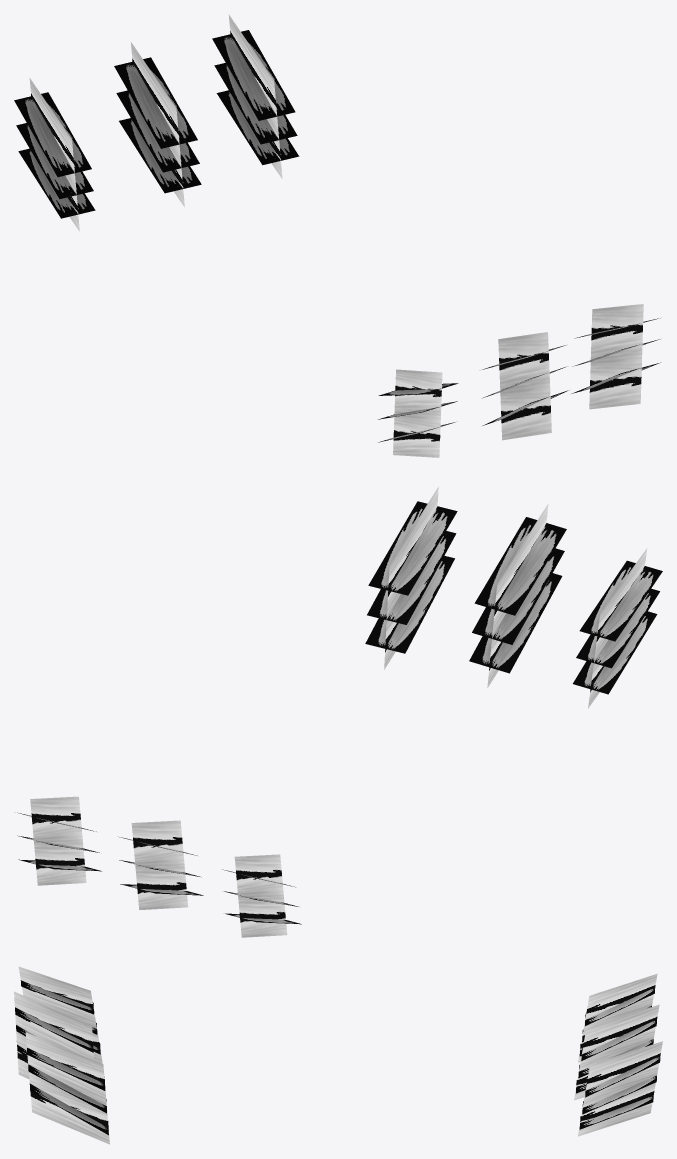
File: windowlights.dae
3 renders of one model, top to bottom at view 1: azimuth 30°, elevation 25°; view 2: azimuth 150°, elevation 25°; view 3: azimuth 270°, elevation 25°, orthographic. The views are drawn at different scales.
Visible parts, largest first — view 1: light_Group44, light_Group44_002, light_Group44_001, light_Group44_005, light_Group44_004, light_Group44_003; view 2: light_Group44_004, light_Group44_005, light_Group44_003, light_Group44, light_Group44_002, light_Group44_001; view 3: light_Group44_005, light_Group44_002, light_Group44_004, light_Group44, light_Group44_003, light_Group44_001.
Part boxes in pixels (<box>): light_Group44: <box>114,42,201,207</box>; light_Group44_002: <box>212,14,299,178</box>; light_Group44_001: <box>14,78,95,231</box>; light_Group44_005: <box>571,304,660,409</box>; light_Group44_004: <box>482,332,568,440</box>; light_Group44_003: <box>378,369,458,457</box>; light_Group44_004: <box>469,504,566,687</box>; light_Group44_005: <box>365,486,457,669</box>; light_Group44_003: <box>573,548,662,708</box>; light_Group44: <box>119,820,203,909</box>; light_Group44_002: <box>17,796,101,885</box>; light_Group44_001: <box>223,854,301,937</box>; light_Group44_005: <box>25,1032,109,1144</box>; light_Group44_002: <box>577,1041,662,1136</box>; light_Group44_004: <box>14,991,93,1078</box>; light_Group44: <box>574,1004,659,1100</box>; light_Group44_003: <box>18,966,102,1063</box>; light_Group44_001: <box>578,973,657,1062</box>.
Size of the model in its own units: 10.74 by 32.12 by 6.31.
1 material, 1 textured.
